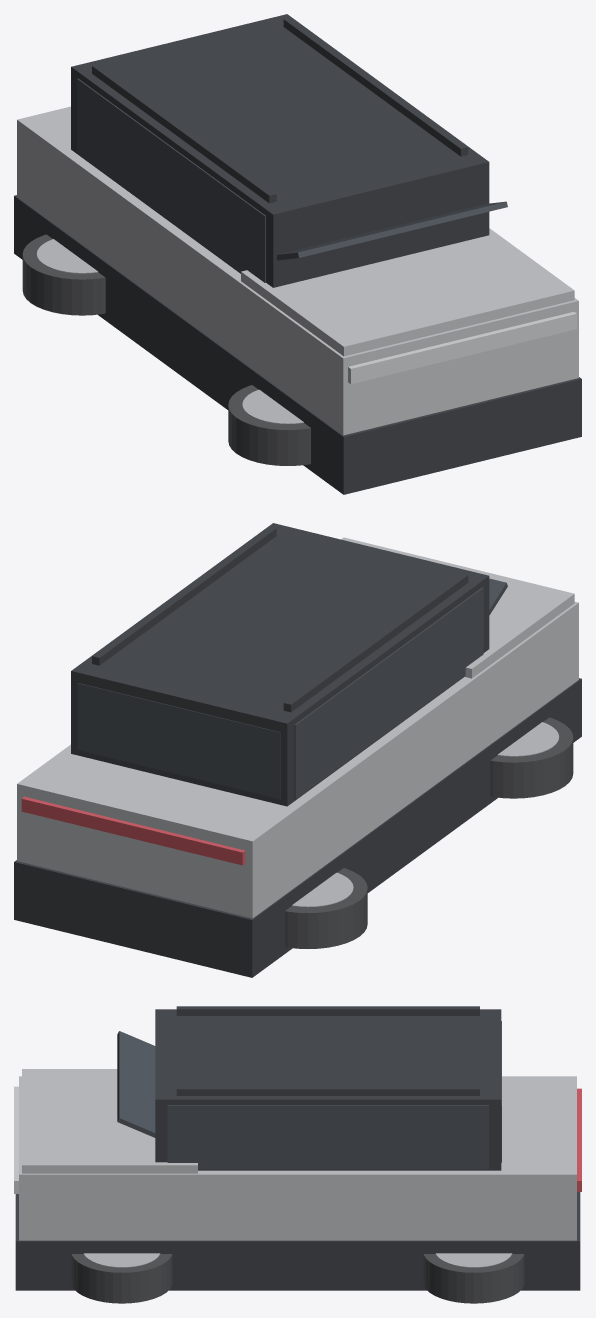
The model's file is completeCarModel.glb.
3 renders of one model, top to bottom at view 1: azimuth 30°, elevation 25°; view 2: azimuth 150°, elevation 25°; view 3: azimuth 270°, elevation 25°, orthographic. The views are drawn at different scales.
Visible parts, largest first — view 1: Pillars_Black, Body_Panels_Silver, Lower_Cladding, Hood, Side_Glass_Left, Front_LED_LightBar, Tire_3, Tire_1, Roof_Rail_R, Roof_Rail_L, Windshield, Alloy_Rim_3 (+1 smaller); view 2: Body_Panels_Silver, Pillars_Black, Lower_Cladding, Side_Glass_Left, Rear_Glass, Hood, Tire_1, Tire_3, Rear_LED_LightBar, Roof_Rail_L, Roof_Rail_R, Alloy_Rim_1 (+1 smaller); view 3: Body_Panels_Silver, Pillars_Black, Lower_Cladding, Side_Glass_Right, Hood, Tire_2, Tire_4, Windshield, Roof_Rail_L, Roof_Rail_R, Alloy_Rim_2, Alloy_Rim_4 (+2 smaller).
Boxes of the visible parts, left/top/right/bottom form: Pillars_Black: left=71, top=14, right=489, bottom=287; Body_Panels_Silver: left=17, top=106, right=578, bottom=435; Lower_Cladding: left=14, top=195, right=581, bottom=494; Hood: left=241, top=228, right=574, bottom=356; Side_Glass_Left: left=77, top=78, right=265, bottom=282; Front_LED_LightBar: left=348, top=312, right=576, bottom=384; Tire_3: left=22, top=234, right=105, bottom=315; Tire_1: left=228, top=385, right=310, bottom=465; Roof_Rail_R: left=283, top=17, right=468, bottom=156; Roof_Rail_L: left=92, top=64, right=276, bottom=203; Windshield: left=277, top=201, right=507, bottom=260; Alloy_Rim_3: left=36, top=239, right=97, bottom=273; Body_Panels_Silver: left=17, top=601, right=578, bottom=918; Pillars_Black: left=71, top=523, right=489, bottom=806; Lower_Cladding: left=14, top=678, right=581, bottom=977; Side_Glass_Left: left=294, top=587, right=483, bottom=799; Rear_Glass: left=77, top=683, right=280, bottom=799; Hood: left=341, top=537, right=574, bottom=678; Tire_1: left=490, top=717, right=573, bottom=798; Tire_3: left=285, top=868, right=367, bottom=948; Rear_LED_LightBar: left=21, top=796, right=245, bottom=865; Roof_Rail_L: left=283, top=573, right=468, bottom=712; Roof_Rail_R: left=92, top=526, right=276, bottom=665; Alloy_Rim_1: left=498, top=722, right=559, bottom=756; Body_Panels_Silver: left=19, top=1076, right=576, bottom=1240; Pillars_Black: left=155, top=1009, right=501, bottom=1170; Lower_Cladding: left=15, top=1192, right=580, bottom=1290; Side_Glass_Right: left=167, top=1105, right=488, bottom=1169; Hood: left=22, top=1069, right=197, bottom=1173; Tire_2: left=71, top=1254, right=172, bottom=1303; Tire_4: left=423, top=1254, right=524, bottom=1303; Windshield: left=117, top=1031, right=155, bottom=1137; Roof_Rail_L: left=176, top=1006, right=479, bottom=1015; Roof_Rail_R: left=176, top=1086, right=479, bottom=1095; Alloy_Rim_2: left=83, top=1253, right=160, bottom=1267; Alloy_Rim_4: left=435, top=1253, right=512, bottom=1267.
Bounding box in the file's own units: 2.68 × 1.76 × 4.68.
